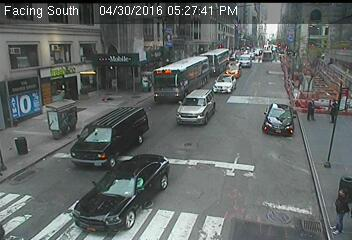neg: (310, 127, 331, 156), (264, 89, 285, 117), (114, 82, 132, 105), (20, 112, 37, 135), (98, 81, 114, 103), (136, 81, 150, 100), (92, 107, 105, 124), (73, 82, 84, 97), (131, 124, 142, 137), (58, 104, 68, 117), (187, 55, 195, 66), (207, 52, 214, 61), (238, 46, 242, 50)
pos: (321, 185, 351, 239), (302, 97, 322, 124)
